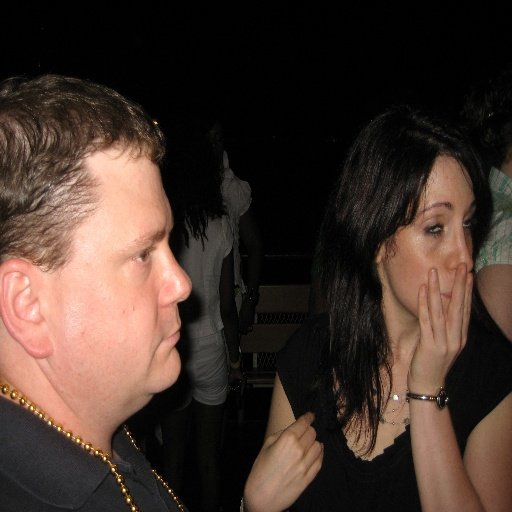hand: (386, 256, 476, 416), (240, 411, 325, 511)
